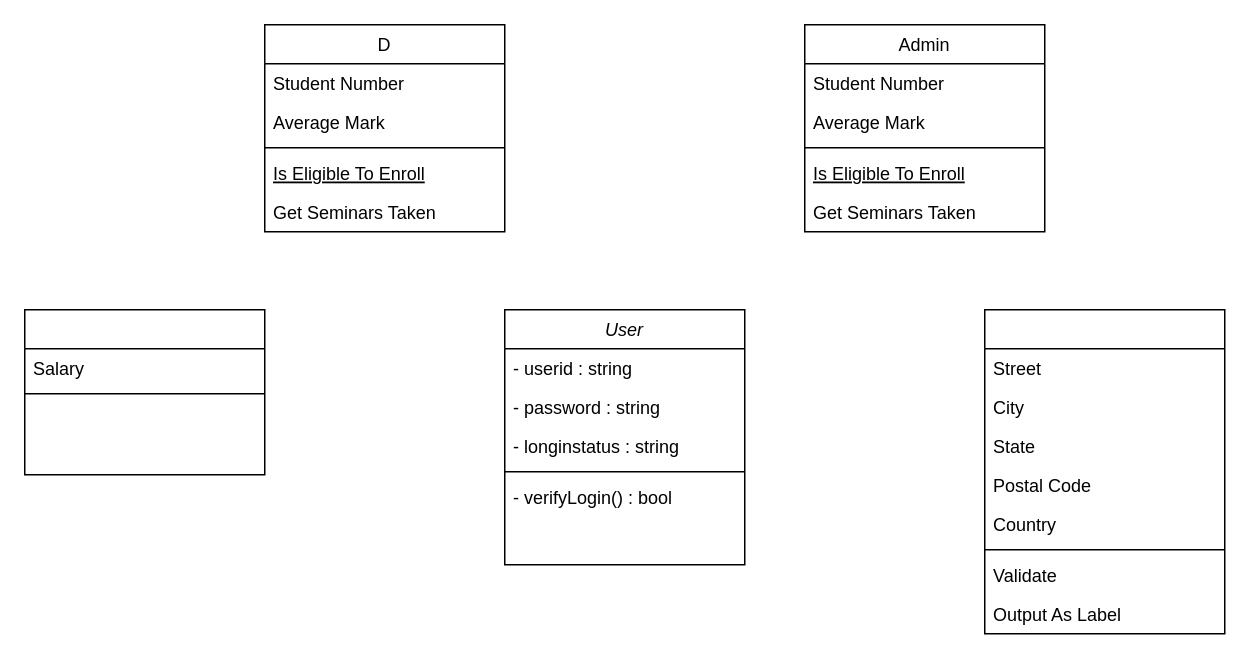
Image size: 1250x659. Some labels were removed from this diagram. The shapes that lost their labels are listed below. From the top down, each one's box as (x1, y1, x2, y2) in pixels, then its label:
(23, 308, 265, 475): Hobby
(983, 308, 1225, 634): Library
